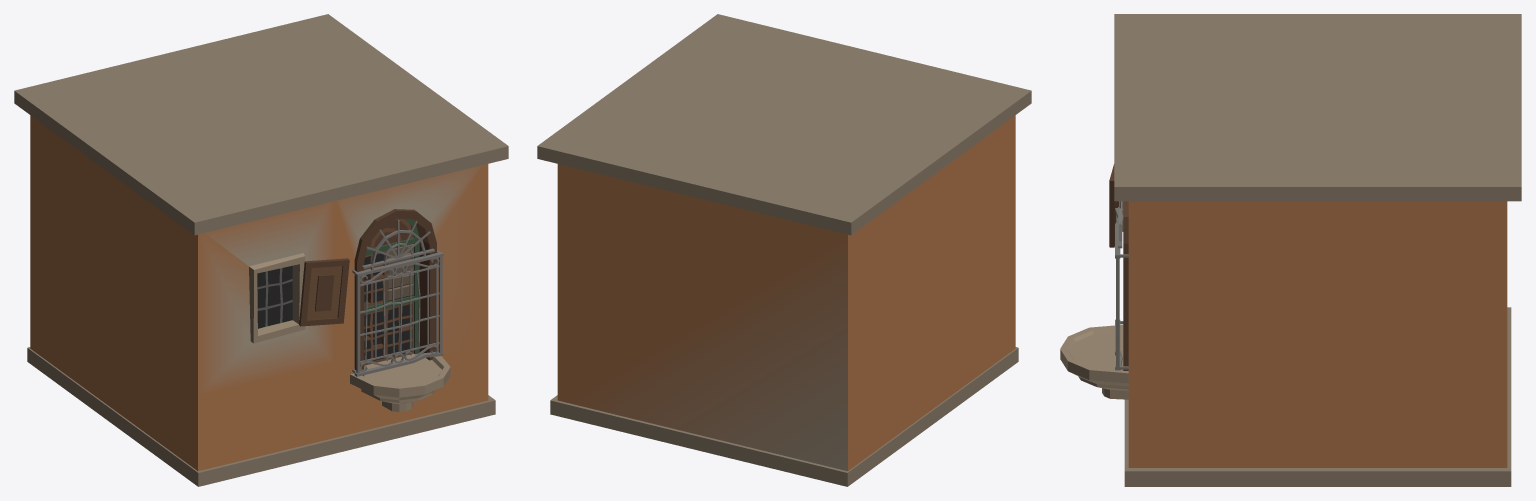
The model's file is SM_Bld_Cuba_Room_05.glb.
3 renders of one model, left to right at view 1: azimuth 30°, elevation 25°; view 2: azimuth 150°, elevation 25°; view 3: azimuth 270°, elevation 25°, orthographic. The views are drawn at different scales.
Visible parts, largest first — view 1: SM_Bld_Cuba_Room_05; view 2: SM_Bld_Cuba_Room_05; view 3: SM_Bld_Cuba_Room_05.
Part boxes in pixels (box(x1,y1,x2,y2)): SM_Bld_Cuba_Room_05: box(14, 14, 508, 486); SM_Bld_Cuba_Room_05: box(537, 14, 1031, 486); SM_Bld_Cuba_Room_05: box(1060, 14, 1521, 486).
Bounding box in the file's own units: 0.0406 × 0.0333 × 0.0457.
